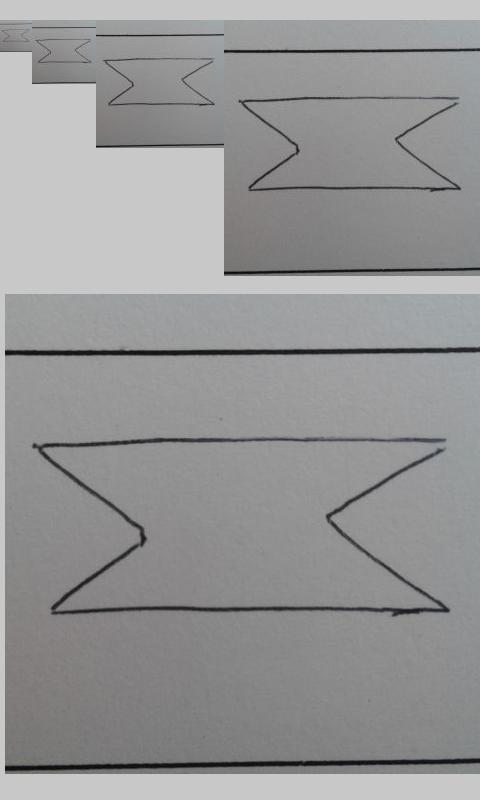edit_text: (36, 435, 454, 618), (239, 95, 462, 193), (103, 58, 215, 106), (35, 38, 91, 64), (2, 28, 30, 43)
